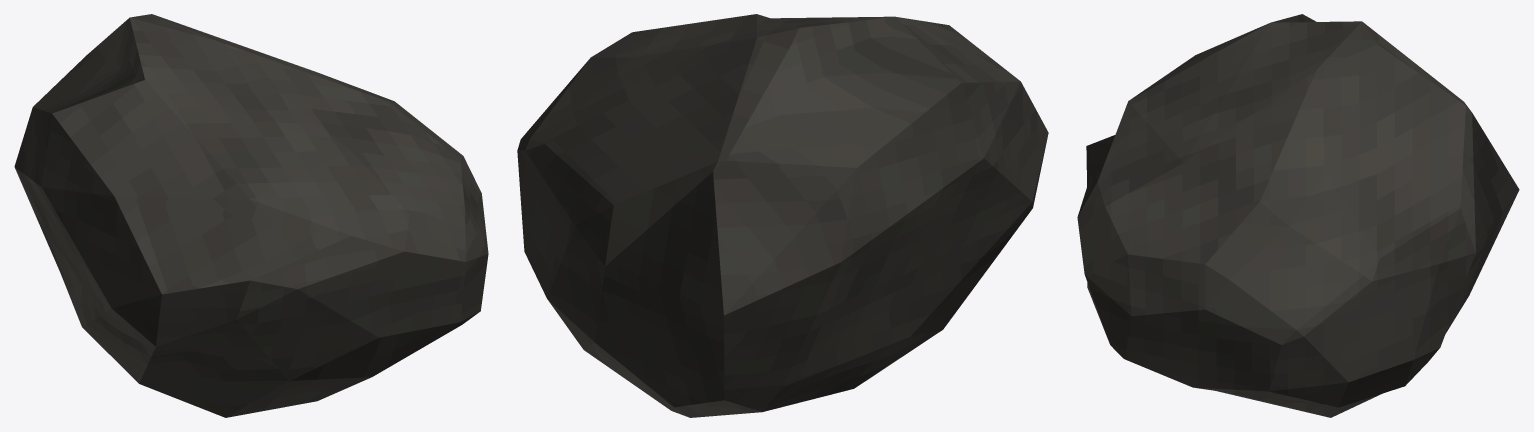
Rendered from rock2.fbx.
3 views of the same model, side by side, from view 1: azimuth 30°, elevation 25°; view 2: azimuth 150°, elevation 25°; view 3: azimuth 270°, elevation 25° (orthographic). The views are drawn at different scales.
Parts seen in each view (by area): view 1: pPlatonic1; view 2: pPlatonic1; view 3: pPlatonic1.
Boxes of the visible parts, box(x1,y1,x2,y2) form: pPlatonic1: box(14, 14, 488, 417); pPlatonic1: box(517, 14, 1048, 417); pPlatonic1: box(1077, 14, 1519, 417).
Bounding box in the file's own units: 0.0449 × 0.0384 × 0.0449.
